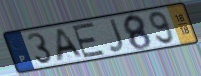3: (27, 32, 54, 65)
8: (121, 12, 154, 51)
9: (148, 10, 175, 46)
A: (55, 27, 86, 63)
E: (70, 21, 107, 59)
J: (107, 17, 126, 53)
